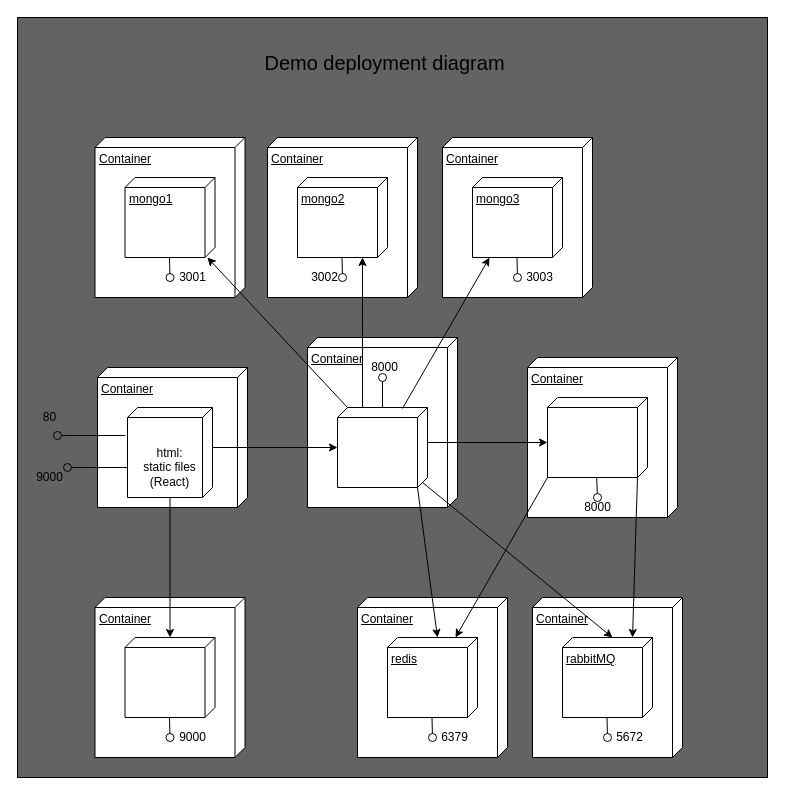
Some shapes in this 785 by 795 pixel diagram are drawn without their labels. Each missing label, with the box of its shape:
backend: (336, 406, 428, 488)
celery_worker: (546, 396, 648, 478)
minio: (124, 636, 215, 718)
nginx: (126, 406, 212, 498)
